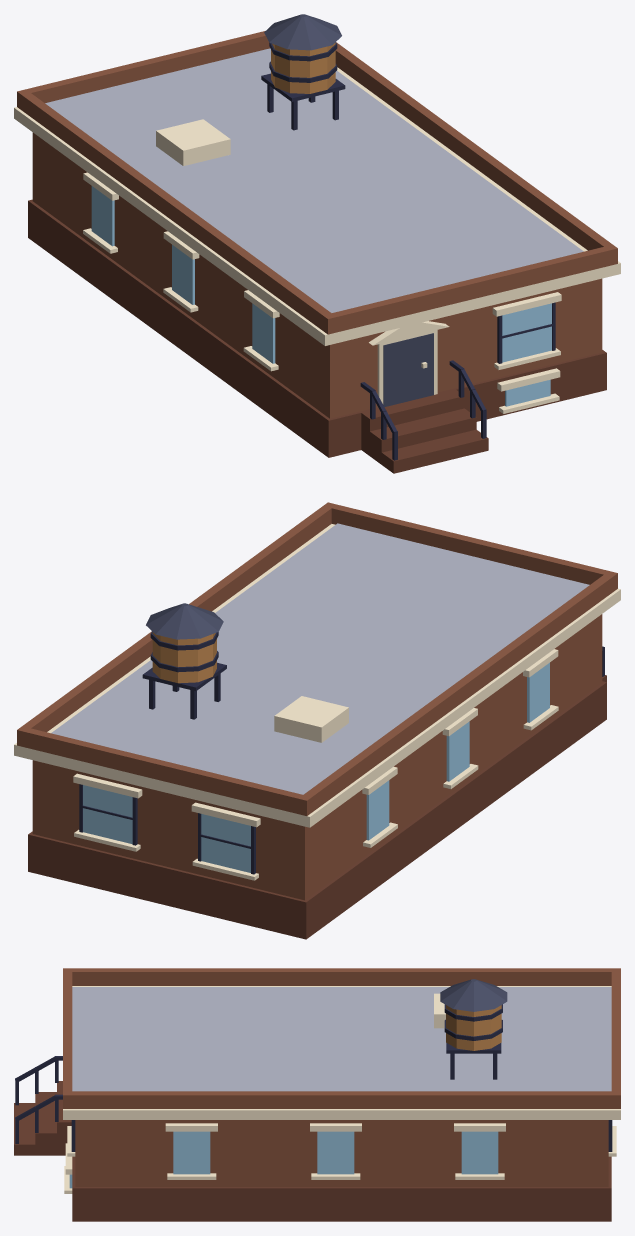
The model's file is house-1x2-1f-brownstone-a.glb.
The picture shows the model from 3 angles, top to bottom: view 1: azimuth 30°, elevation 25°; view 2: azimuth 150°, elevation 25°; view 3: azimuth 270°, elevation 25°; orthographic projection. The views are drawn at different scales.
Parts seen in each view (by area): view 1: house-1x2-1f-brownstone-a; view 2: house-1x2-1f-brownstone-a; view 3: house-1x2-1f-brownstone-a.
Boxes of the visible parts, x1,y1,x2,y2 form: house-1x2-1f-brownstone-a: [14, 14, 620, 473]; house-1x2-1f-brownstone-a: [14, 502, 620, 939]; house-1x2-1f-brownstone-a: [14, 968, 620, 1221].
Bounding box in the file's own units: 1 × 0.743 × 1.98.
1 material, 1 textured.
